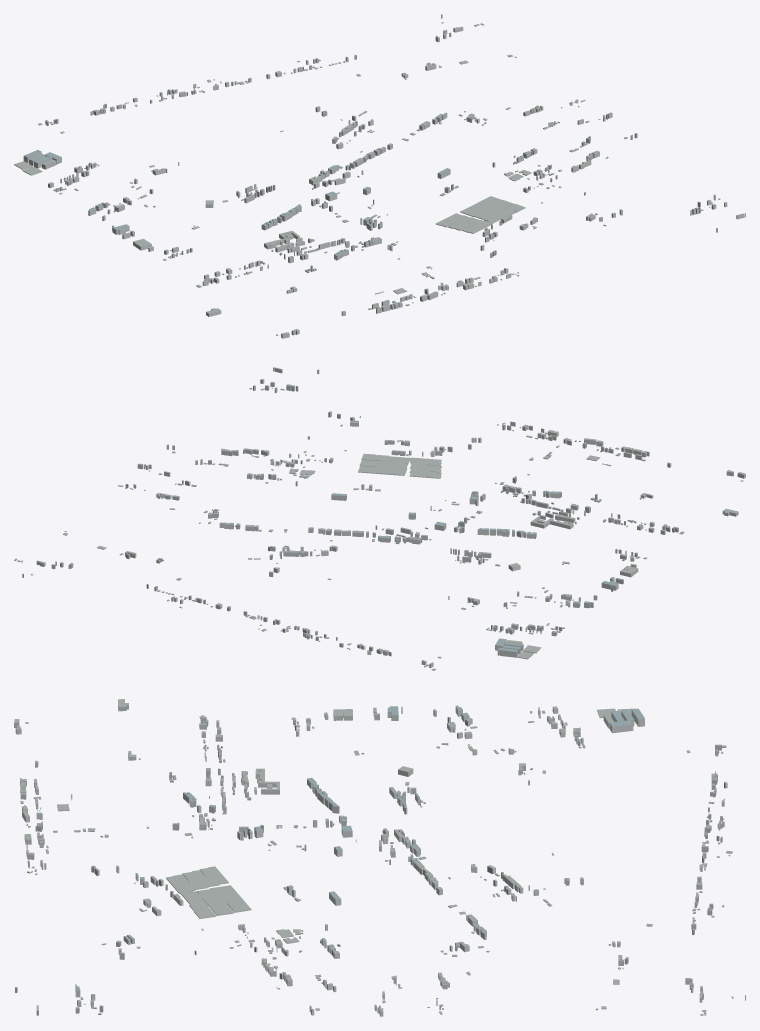
The model's file is far.glb.
3 renders of one model, top to bottom at view 1: azimuth 30°, elevation 25°; view 2: azimuth 150°, elevation 25°; view 3: azimuth 270°, elevation 25°, orthographic. The views are drawn at different scales.
Bounding box in the file's own units: 2130 × 23.3 × 2102.
